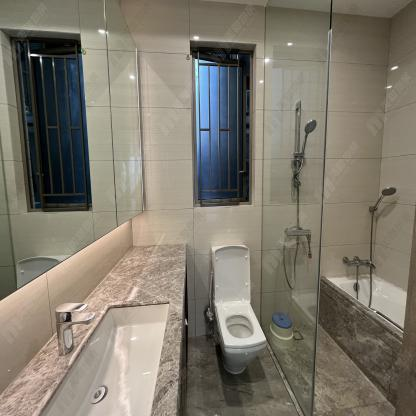Bathtub: (318, 272, 407, 409)
Toilet: (207, 237, 268, 374)
Toilet Sink: (18, 288, 184, 416)
